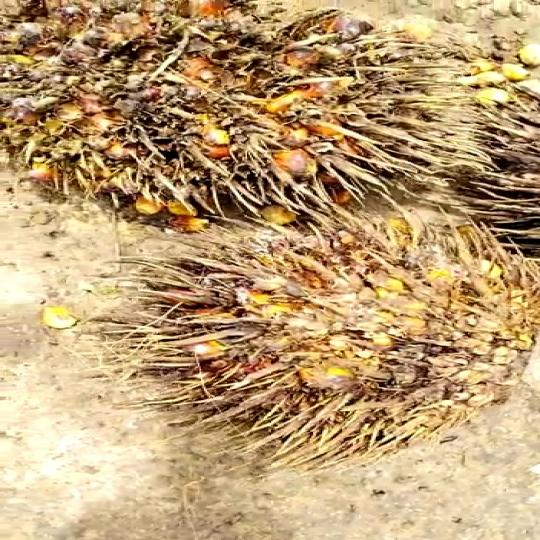terlalu masak: (56, 223, 538, 470), (0, 3, 478, 232)
